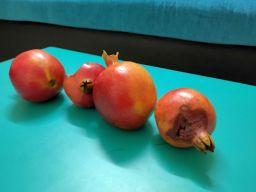pomegranate: (94, 49, 157, 131), (154, 87, 216, 154), (10, 49, 66, 102), (64, 62, 105, 110)
